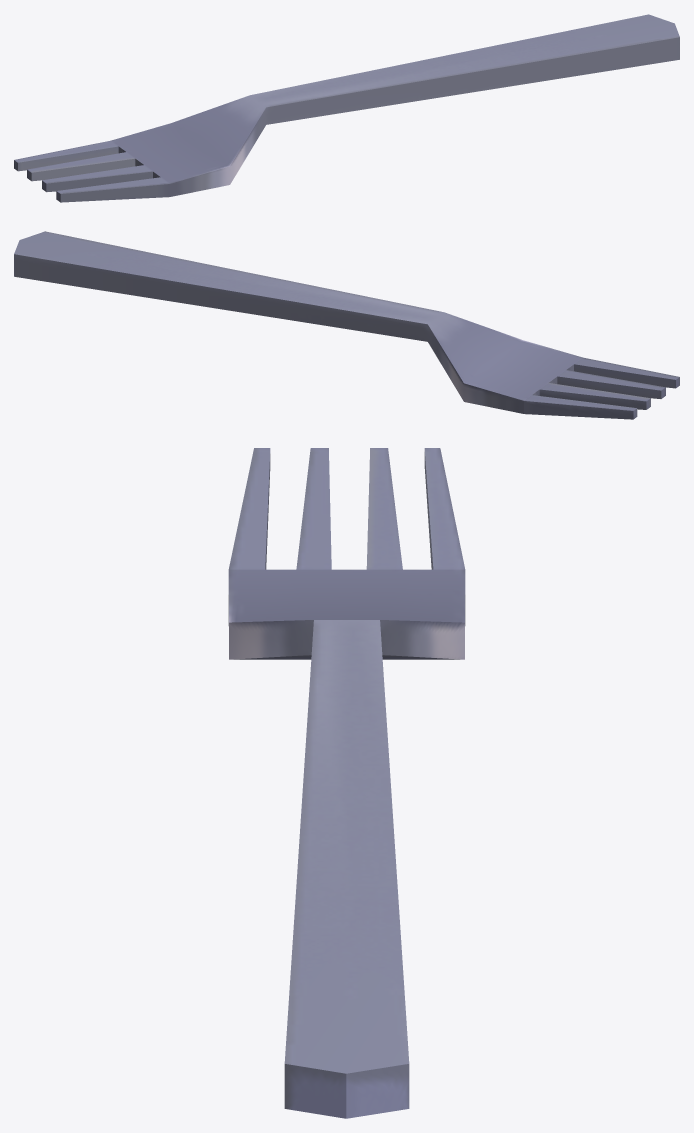
Rendered from Fork_01.fbx.
The picture shows the model from 3 angles, top to bottom: view 1: azimuth 30°, elevation 25°; view 2: azimuth 150°, elevation 25°; view 3: azimuth 270°, elevation 25°; orthographic projection. The views are drawn at different scales.
Visible parts, largest first — view 1: Fork_01; view 2: Fork_01; view 3: Fork_01.
Part boxes in pixels (x1,y1,x2,y2): Fork_01: [14, 14, 679, 202]; Fork_01: [14, 231, 679, 419]; Fork_01: [228, 448, 465, 1118].
Bounding box in the file's own units: 59.03 × 4.25 × 9.49.
